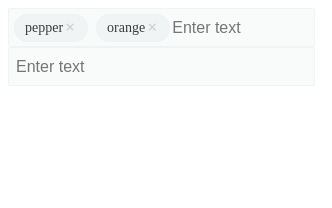
it: OrInputTags options config › should display options according to set optionLabel
Type "e" into the 2nd field with test id "filter-input" at (60, 66), box x1=14 y1=56 x2=107 y2=76
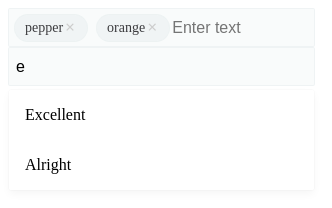
Check: the text "Excellent" is shown, box x1=9 y1=90 x2=314 y2=140
Check: the text "Alright" is shown, box x1=9 y1=140 x2=314 y2=190
